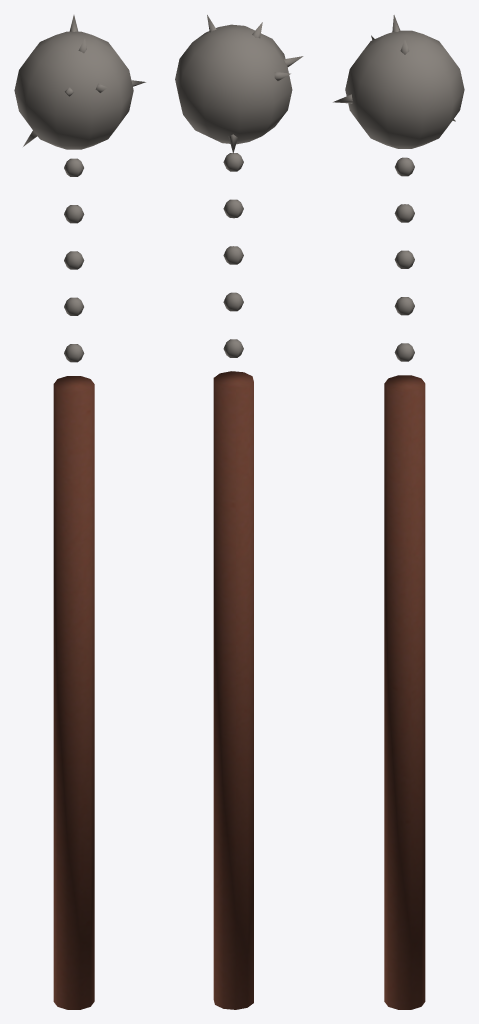
Rendered from flail.fbx.
3 renders of one model, left to right at view 1: azimuth 90°, elevation 25°; view 2: azimuth 150°, elevation 25°; view 3: azimuth 270°, elevation 25°, orthographic.
Visible parts, largest first — view 1: flail; view 2: flail; view 3: flail.
Boxes of the visible parts, box(x1,y1,x2,y2) form: flail: box(14, 15, 145, 1009); flail: box(175, 15, 303, 1009); flail: box(333, 15, 464, 1009).
Bounding box in the file's own units: 0.0744 × 0.6316 × 0.0775.
2 materials, 1 textured.
